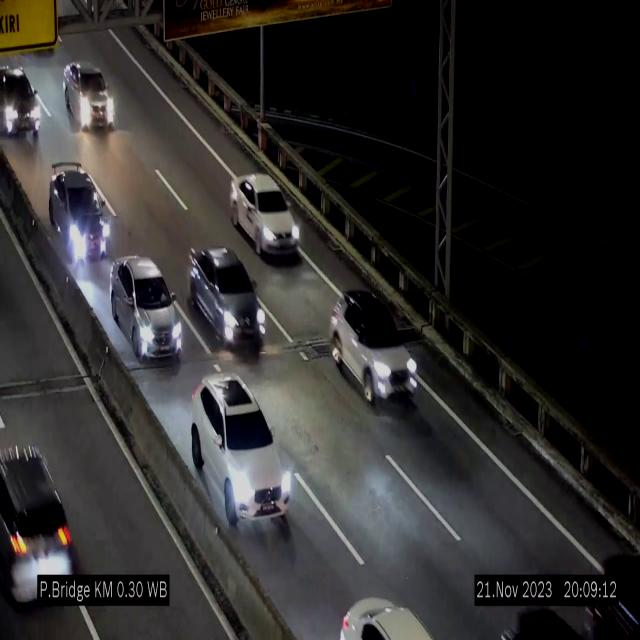Car: (0, 420, 96, 640), (190, 377, 292, 531), (330, 289, 418, 406), (189, 248, 267, 352), (42, 161, 114, 272), (110, 258, 182, 362), (230, 175, 300, 257), (67, 53, 121, 146), (0, 61, 44, 151)
